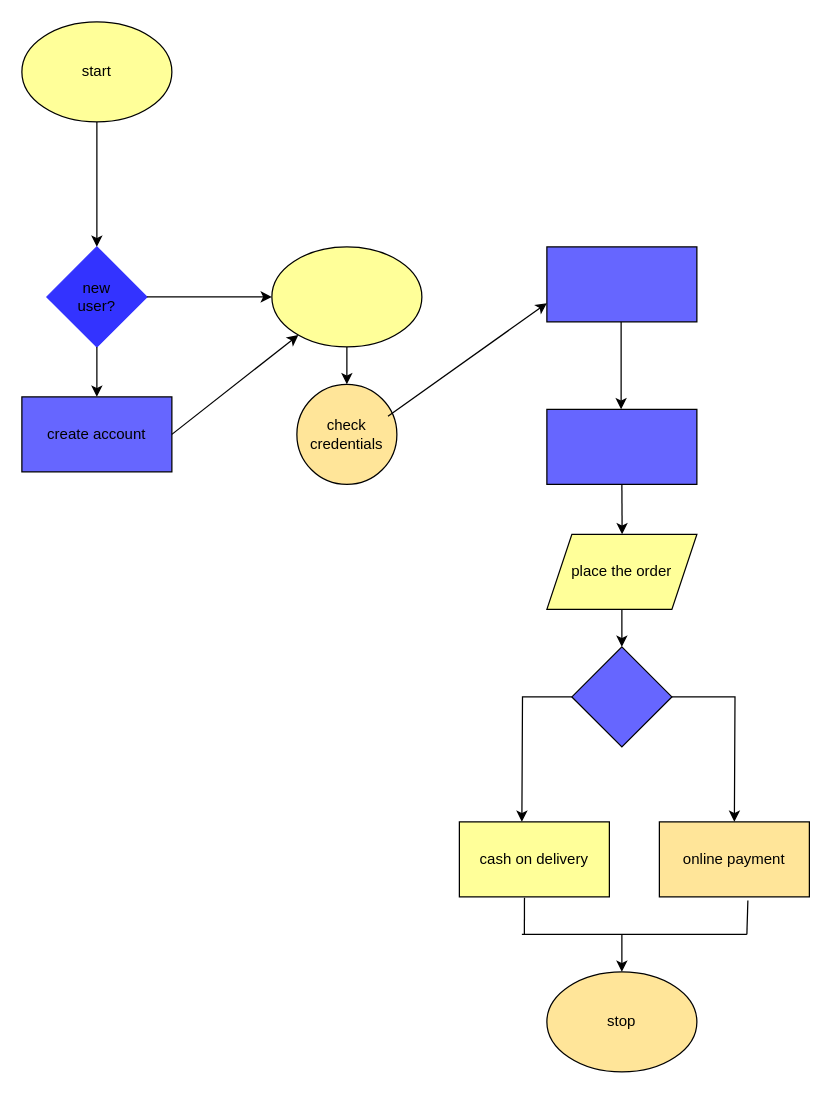
The diagram is 831 pixels wide and 1094 high, and some of its shapes have lost their labels. Here are the shapes that lost their labels. From the top down, the centre of each, then its label:
the point at 346,296: login
the point at 621,284: select the resturent
the point at 621,446: search desired food
the point at 621,696: payment condition
